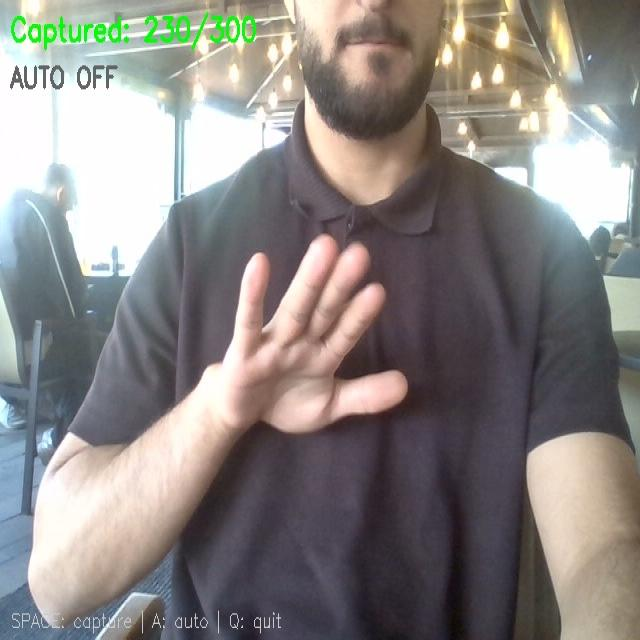Hand: (212, 235, 406, 433)
